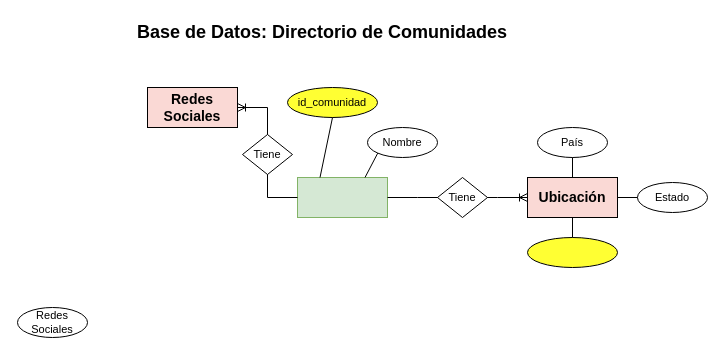
The diagram is 725 pixels wide and 355 high, and some of its shapes have lost their labels. Here are the shapes that lost their labels. From the top down, the box of each, then its label:
(296, 176, 388, 218): Comunidad
(526, 236, 618, 268): id_ubicación
